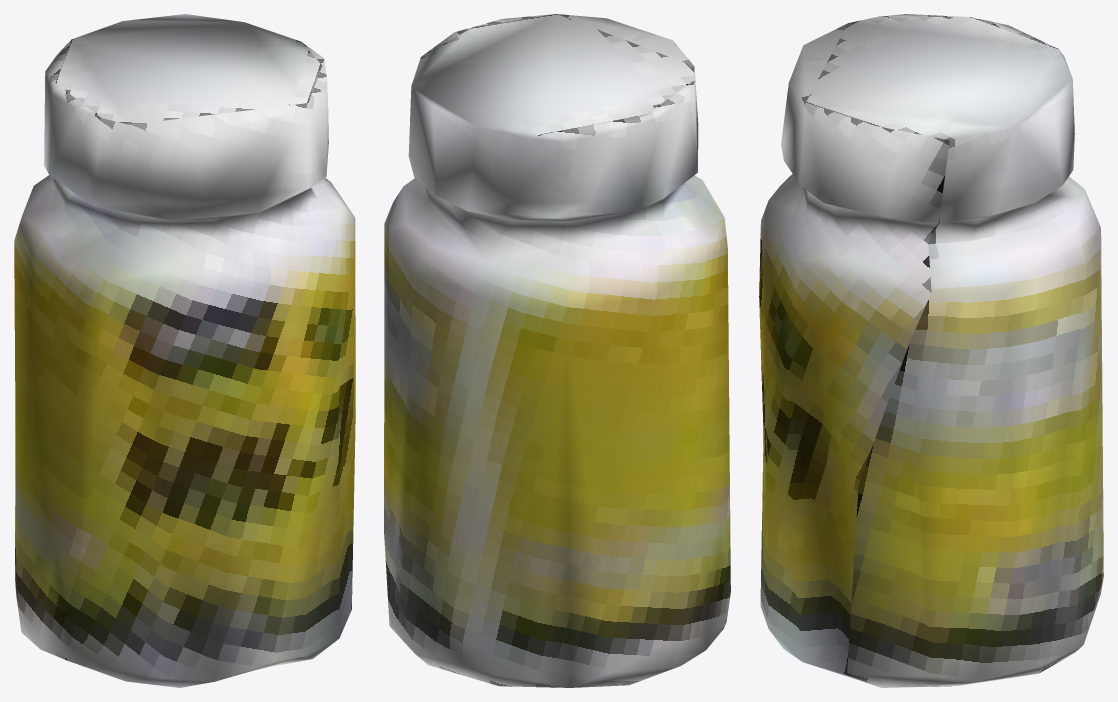
3 renders of one model, left to right at view 1: azimuth 30°, elevation 25°; view 2: azimuth 150°, elevation 25°; view 3: azimuth 270°, elevation 25°, orthographic.
Visible parts, largest first — view 1: MK7; view 2: MK7; view 3: MK7.
Part boxes in pixels (x1,y1,x2,y2): MK7: (14, 14, 355, 687); MK7: (384, 14, 730, 687); MK7: (759, 14, 1103, 687).
Size of the model in its own units: 0.0471 by 0.0838 by 0.0471.
Materials: 1 (1 with a texture image).
